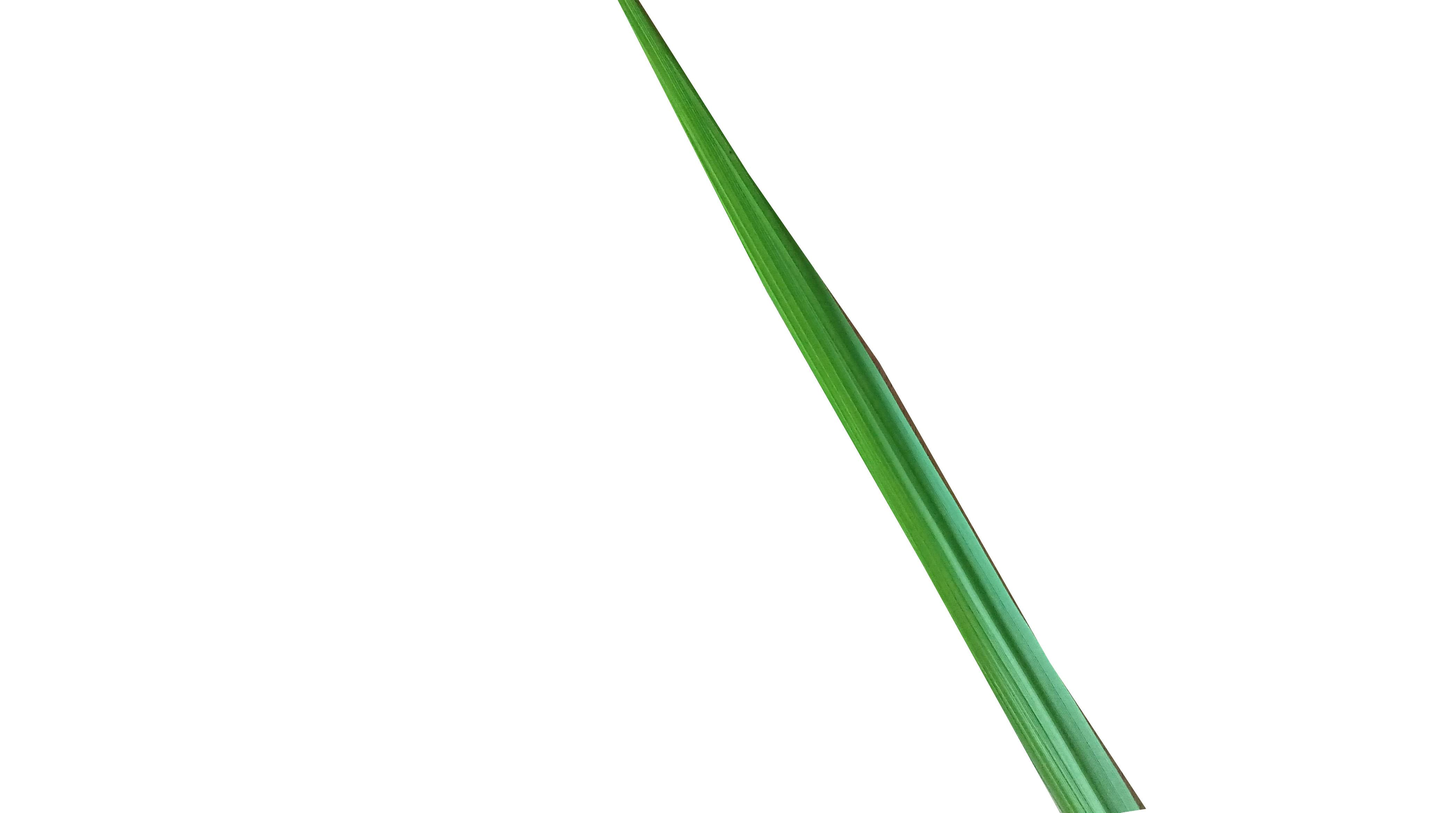Healthy: (614, 0, 1151, 813)
